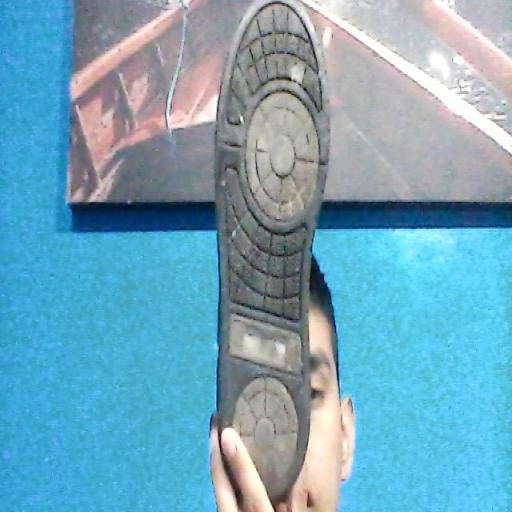shoe: (215, 0, 330, 501)
